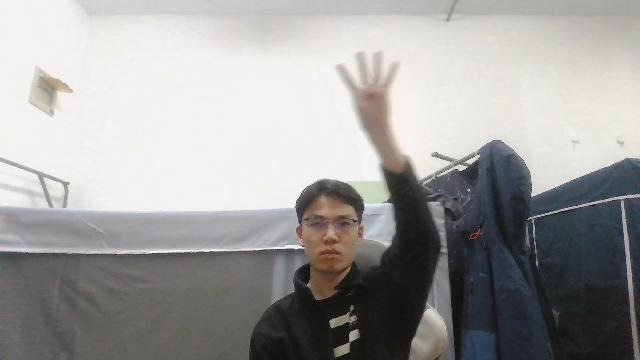four: (333, 45, 405, 153)
